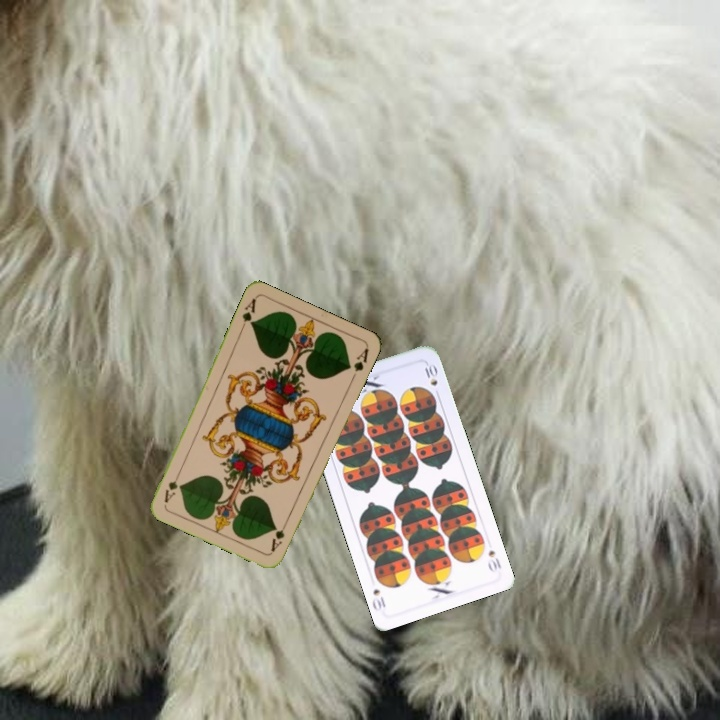GA: (267, 516, 291, 555), (236, 294, 258, 333)
S10: (484, 546, 504, 575)
